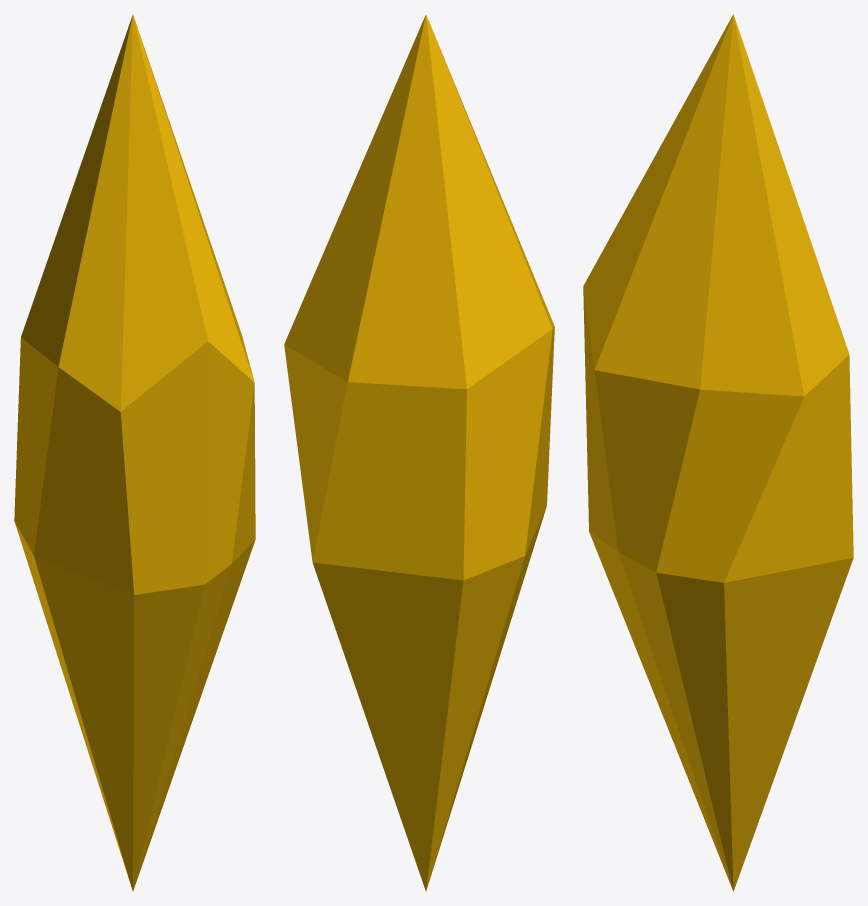
File: crystal_1.obj
3 renders of one model, left to right at view 1: azimuth 30°, elevation 25°; view 2: azimuth 150°, elevation 25°; view 3: azimuth 270°, elevation 25°, orthographic.
Visible parts, largest first — view 1: Cylinder; view 2: Cylinder; view 3: Cylinder.
Part boxes in pixels (x1=…): Cylinder: x1=14, y1=14, x2=255, y2=891; Cylinder: x1=284, y1=14, x2=554, y2=891; Cylinder: x1=583, y1=14, x2=853, y2=891.
Bounding box in the file's own units: 1.03 × 4.16 × 1.16.
